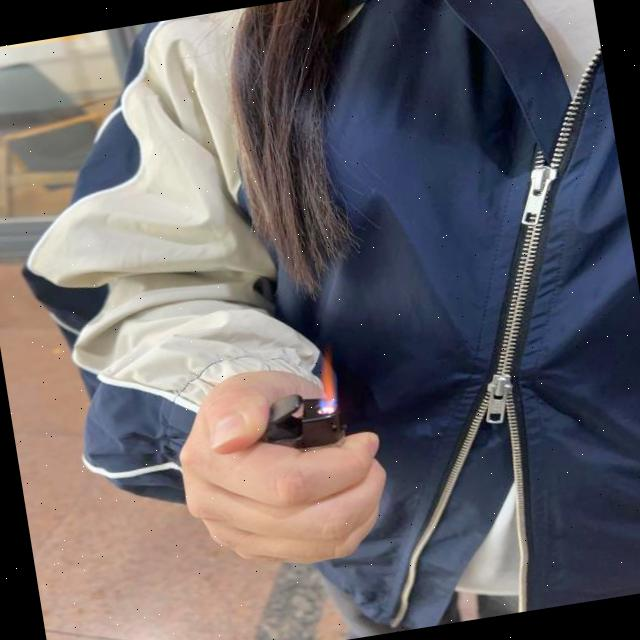fire: (314, 354, 342, 409)
